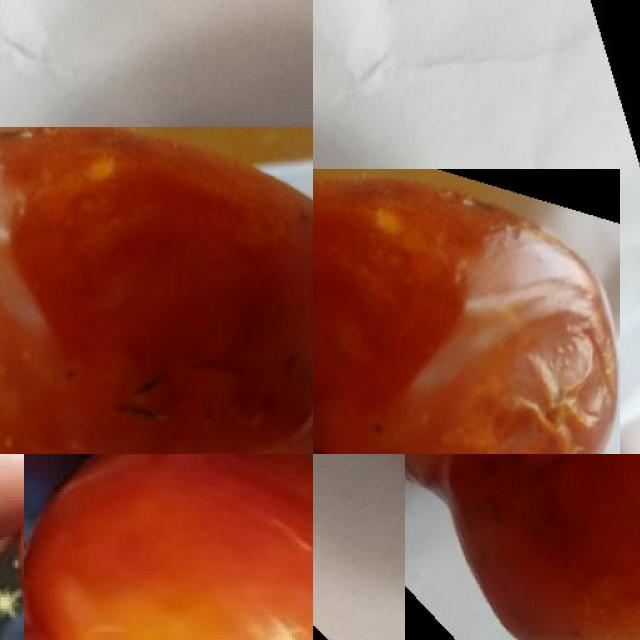Rotten Tomato: (0, 127, 313, 454), (313, 168, 619, 454), (24, 454, 313, 640), (405, 454, 640, 640)
